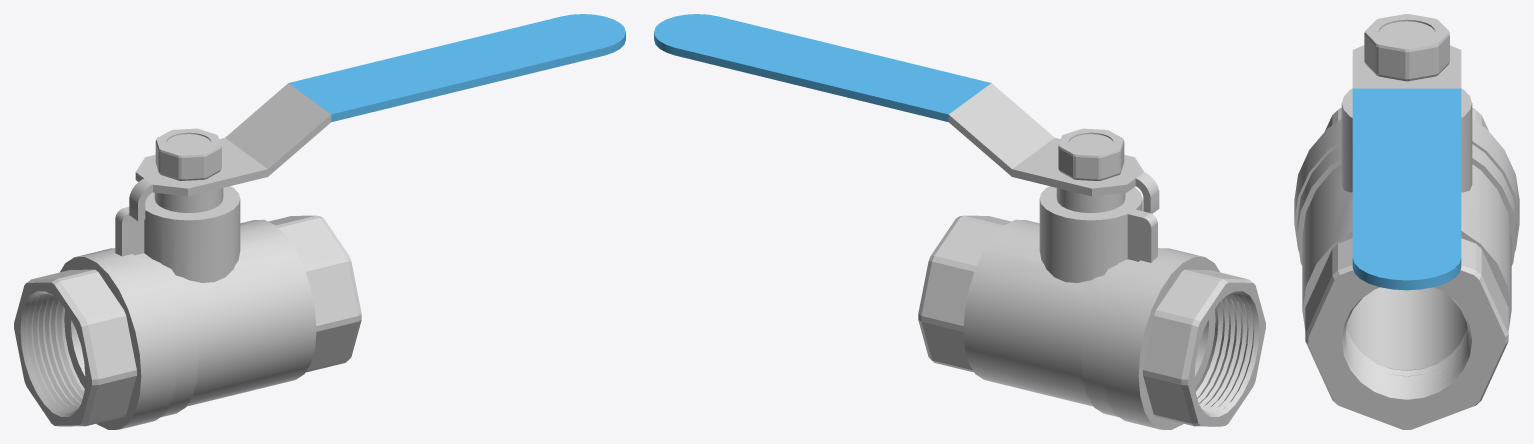
File: Ball_Valve[1].glb
3 renders of one model, left to right at view 1: azimuth 30°, elevation 25°; view 2: azimuth 150°, elevation 25°; view 3: azimuth 270°, elevation 25°, orthographic. The views are drawn at different scales.
Parts seen in each view (by area): view 1: 3DGeom-8, 3DGeom-3, 3DGeom-1, 3DGeom-2, 3DGeom-4, 3DGeom-5, 3DGeom-6; view 2: 3DGeom-8, 3DGeom-3, 3DGeom-1, 3DGeom-2, 3DGeom-4, 3DGeom-5, 3DGeom-6; view 3: 3DGeom-8, 3DGeom-3, 3DGeom-4, 3DGeom-5, 3DGeom-2, 3DGeom-6, 3DGeom-1.
Part boxes in pixels (x1,y1,x2,y2): 3DGeom-8: [60, 186, 316, 429]; 3DGeom-3: [288, 14, 625, 121]; 3DGeom-1: [14, 269, 136, 426]; 3DGeom-2: [129, 83, 331, 221]; 3DGeom-4: [268, 215, 361, 372]; 3DGeom-5: [155, 128, 221, 180]; 3DGeom-6: [166, 134, 210, 151]; 3DGeom-8: [963, 186, 1219, 429]; 3DGeom-3: [654, 14, 991, 121]; 3DGeom-1: [1143, 269, 1265, 426]; 3DGeom-2: [948, 83, 1159, 213]; 3DGeom-4: [918, 215, 1011, 372]; 3DGeom-5: [1058, 128, 1124, 180]; 3DGeom-6: [1069, 134, 1113, 151]; 3DGeom-8: [1294, 88, 1519, 370]; 3DGeom-3: [1352, 88, 1461, 290]; 3DGeom-4: [1305, 238, 1508, 429]; 3DGeom-5: [1364, 14, 1449, 81]; 3DGeom-2: [1352, 45, 1461, 88]; 3DGeom-6: [1378, 21, 1435, 43]; 3DGeom-1: [1325, 108, 1488, 130].
Bounding box in the file's own units: 0.2563 × 0.1181 × 0.0698.
